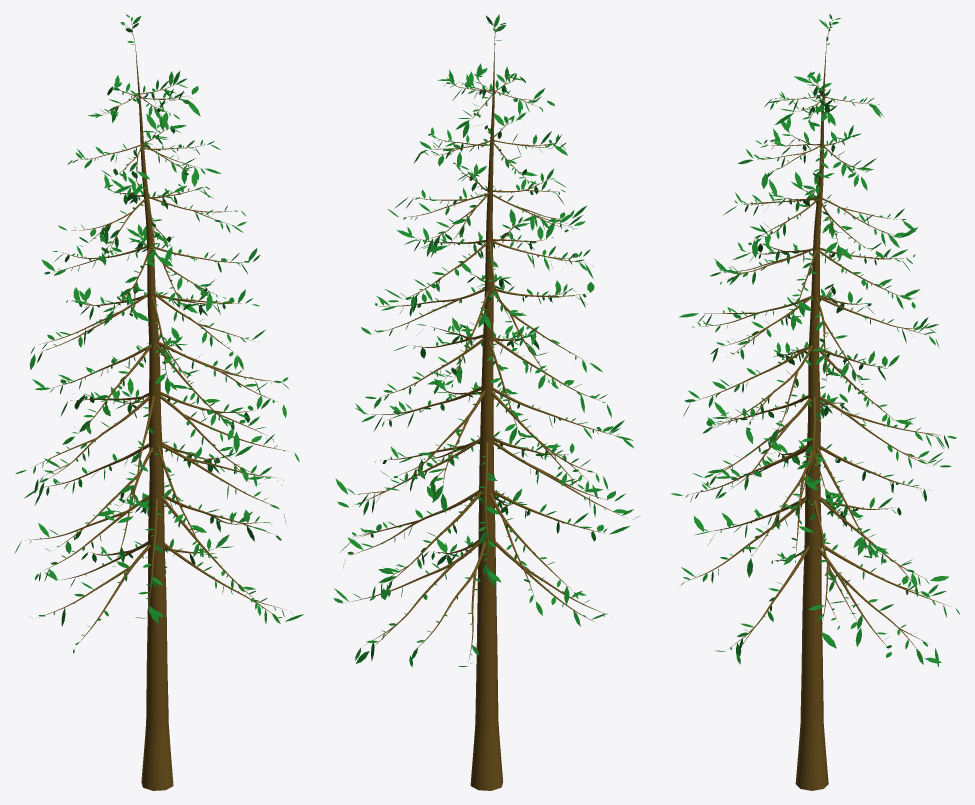
File: tree.fbx
3 views of the same model, side by side, from view 1: azimuth 30°, elevation 25°; view 2: azimuth 150°, elevation 25°; view 3: azimuth 270°, elevation 25° (orthographic). The views are drawn at different scales.
Visible parts, largest first — view 1: tree, leaves; view 2: tree, leaves; view 3: tree, leaves.
Boxes of the visible parts, left/top/right/bottom form: tree: left=25, top=21, right=288, bottom=790; leaves: left=14, top=14, right=303, bottom=653; tree: left=349, top=24, right=623, bottom=790; leaves: left=333, top=14, right=640, bottom=667; tree: left=684, top=23, right=948, bottom=790; leaves: left=670, top=14, right=959, bottom=666.
Bounding box in the file's own units: 453 × 1236 × 429.
